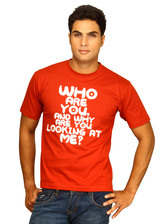clothoes: (16, 54, 154, 193)
